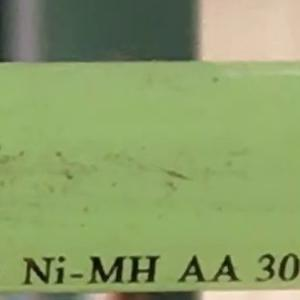NI-MH: (13, 246, 158, 295)
